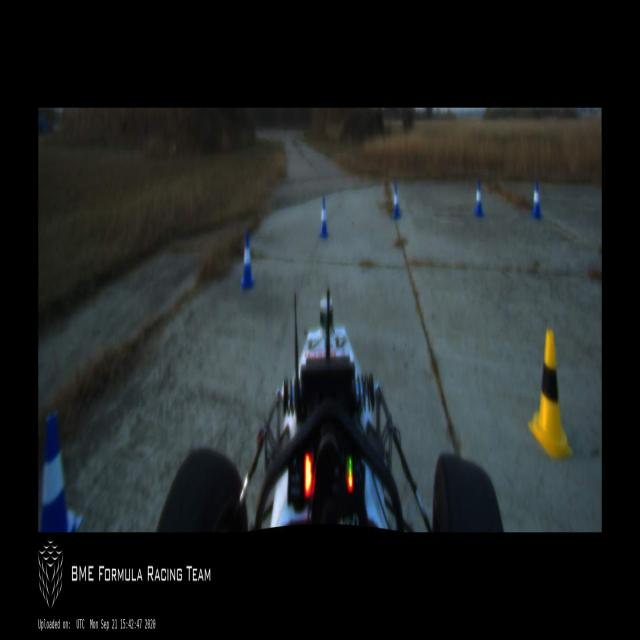blue_cone: (38, 412, 83, 532), (240, 231, 253, 291), (532, 182, 542, 218), (474, 182, 484, 216), (320, 198, 328, 238), (392, 184, 400, 218)
yellow_cone: (529, 332, 572, 458)
